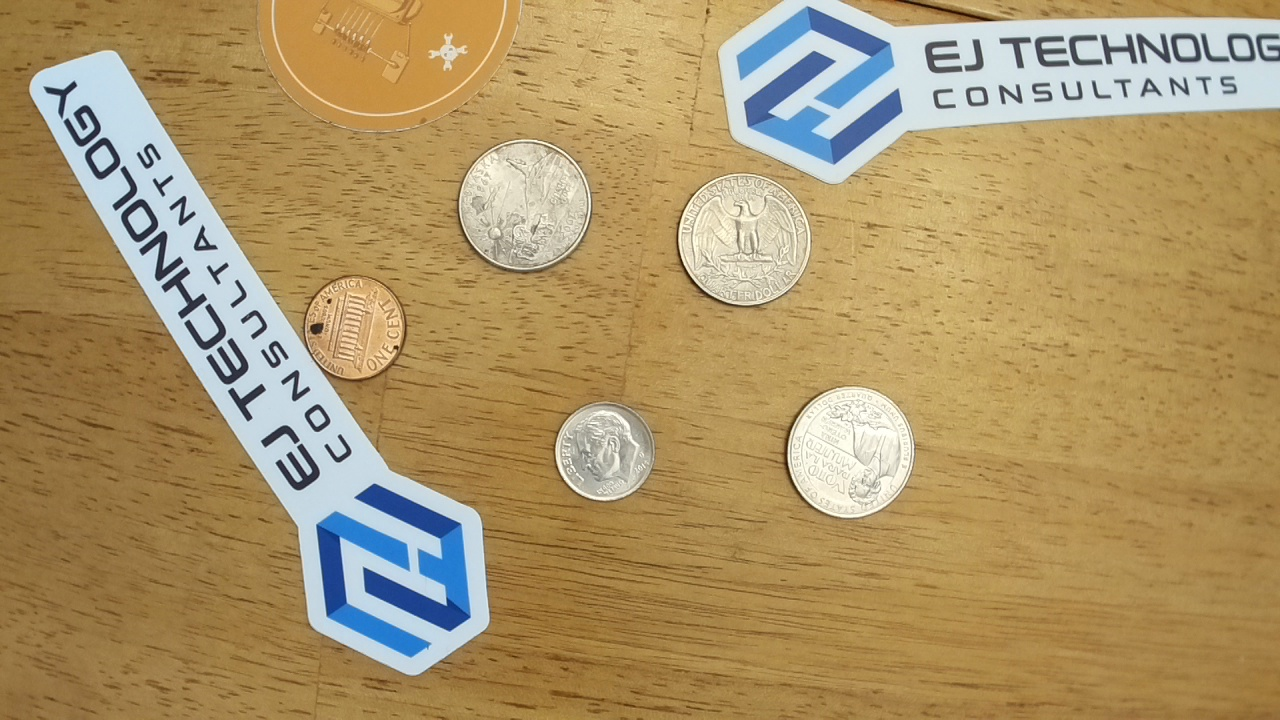dime: (552, 398, 656, 504)
penny: (300, 272, 408, 382)
quarter: (454, 134, 592, 276), (674, 170, 812, 310), (782, 378, 918, 520)
